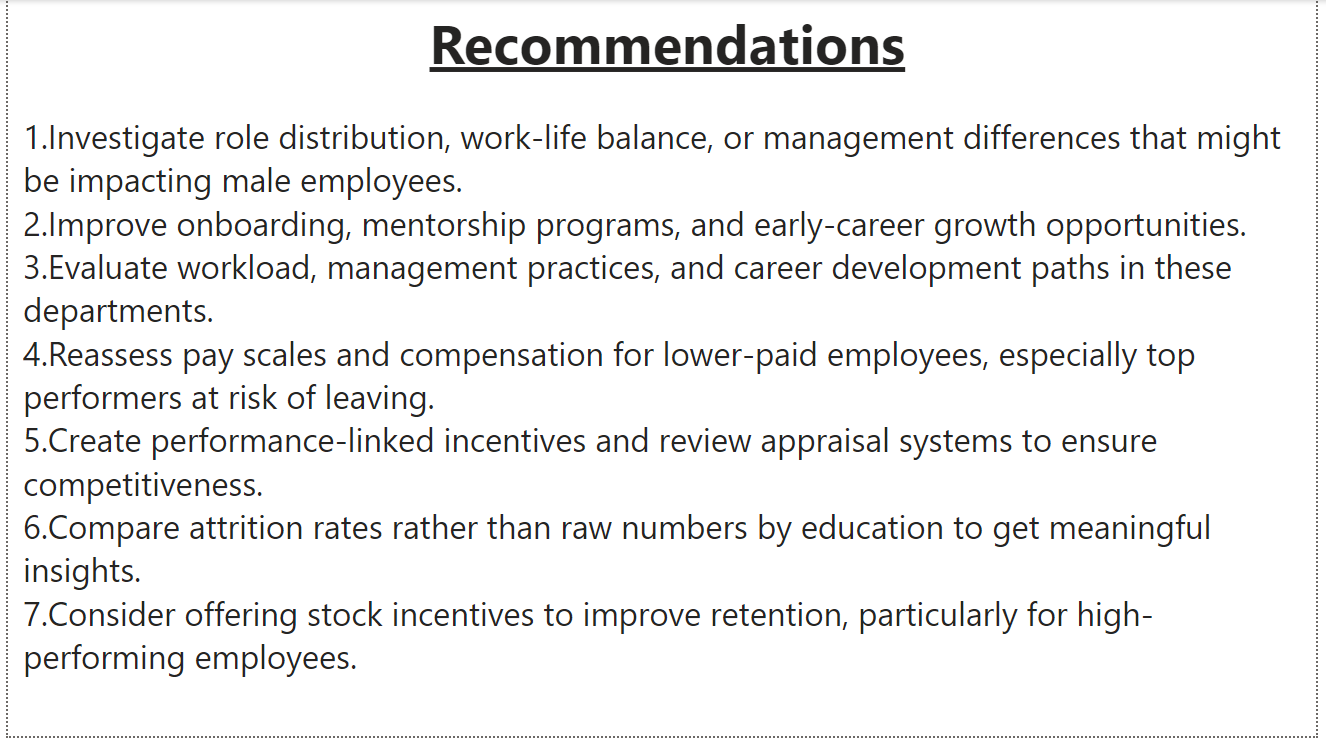

The dashboard page shown, as its layout file describes it:
{"tool":"powerbi","page":{"name":"Recommendations","canvas":[1280,720],"ordinal":2},"visuals":[{"type":"textbox","box":[9.8,0,1270.5,720.2],"z":0}]}

Visuals, with their boxes in screenshot pixels (x1, y1, x2, y2), scaled from the page's 1280x720 canvas onto the 1326x743 screenshot:
textbox: box=[10, 0, 1325, 742]
